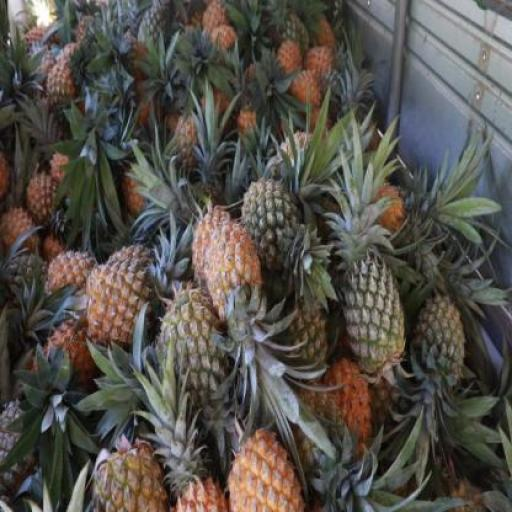------------------------------: (154, 292, 224, 400), (241, 182, 305, 281), (90, 443, 162, 512), (42, 65, 76, 123)
Pineapple - v8 v1: (84, 248, 154, 349), (225, 428, 304, 511), (204, 229, 265, 331), (192, 211, 242, 299), (46, 250, 94, 311), (24, 174, 62, 228)
